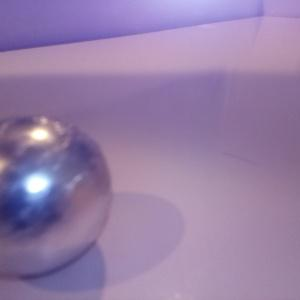alive_ball: (1, 115, 112, 278)
